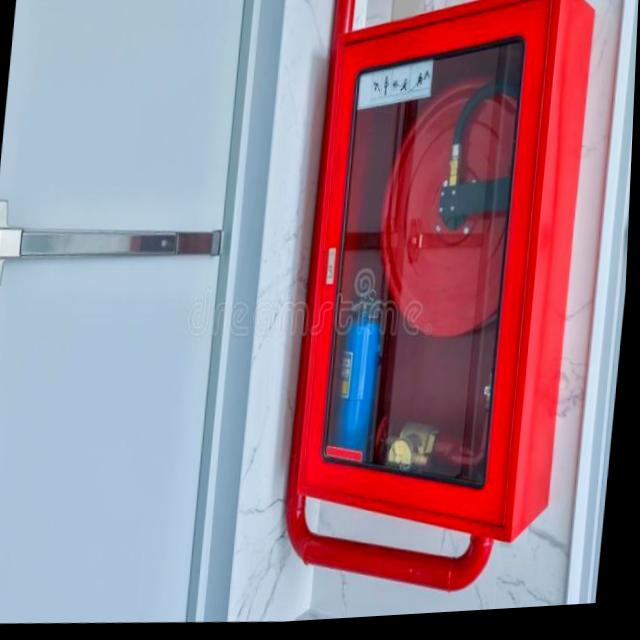FireExtinguisher: (324, 279, 395, 507)
